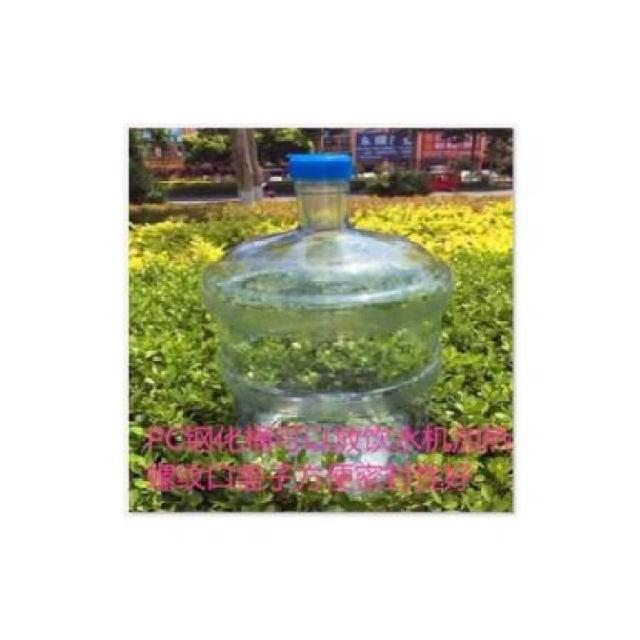coolerbottle: (197, 148, 454, 494)
